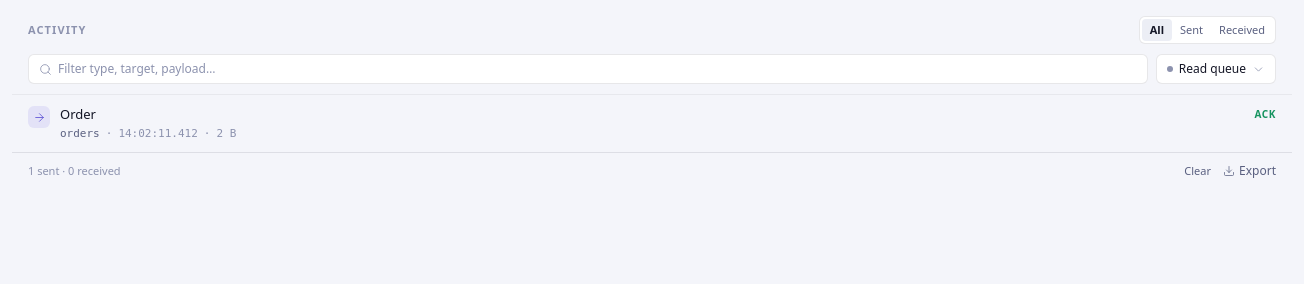
Test: expanded row › clicking a sent row reveals its decoded values and actions
Click the text "Order". click: (78, 114)
box: top-left (60, 105), bottom-right (96, 123)
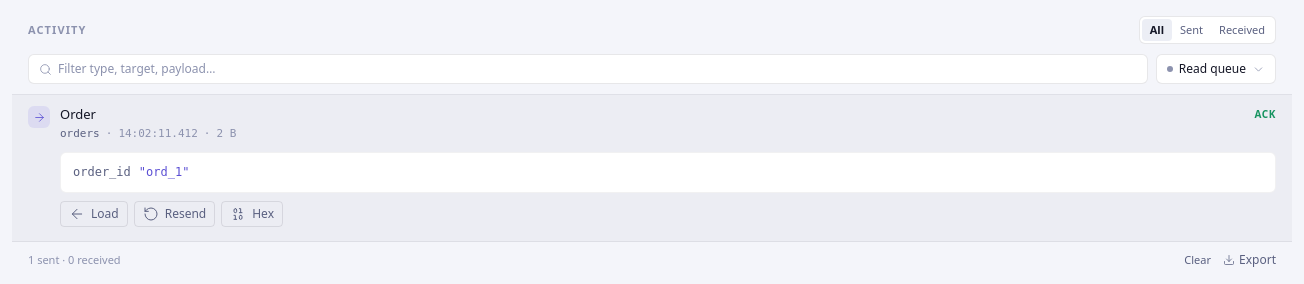
Expected: the text "order_id" is shown, top-left (73, 163), bottom-right (131, 182)
Expected: the button "Load" is shown, top-left (60, 201), bottom-right (128, 227)
Expected: the button "Resend" is shown, top-left (134, 201), bottom-right (215, 227)
